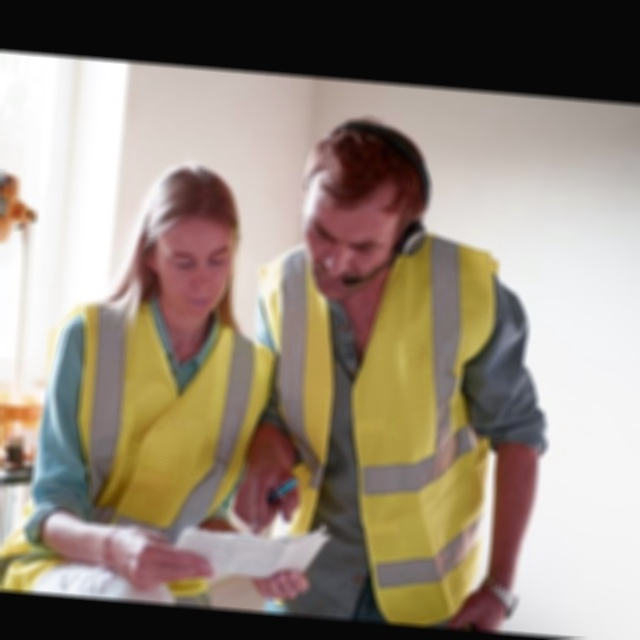Con_Chaleco: (248, 259, 501, 621), (38, 298, 271, 611)
